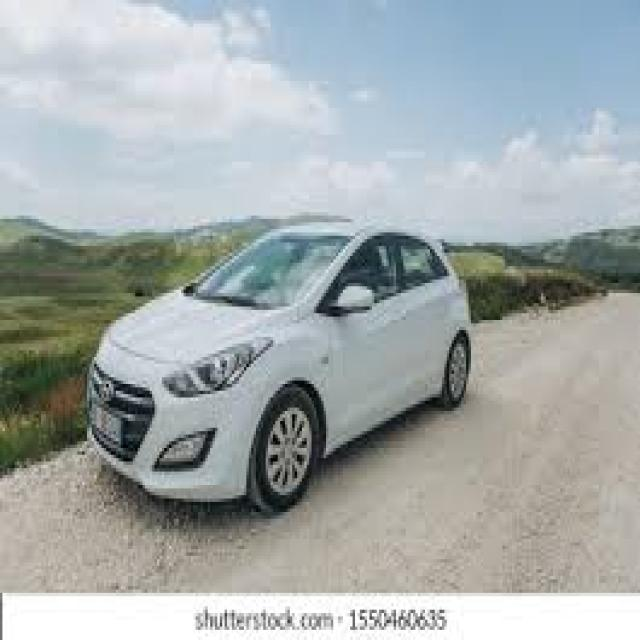car: (83, 228, 481, 500)
